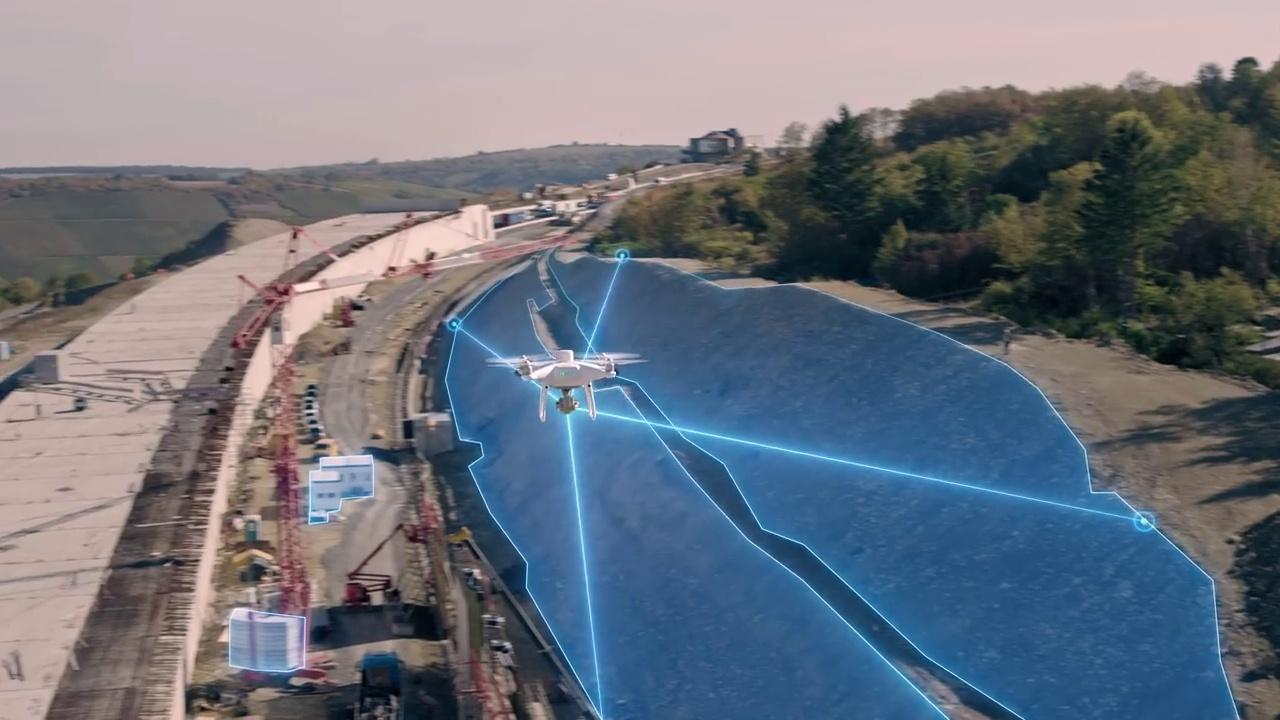drone: (481, 343, 646, 426)
